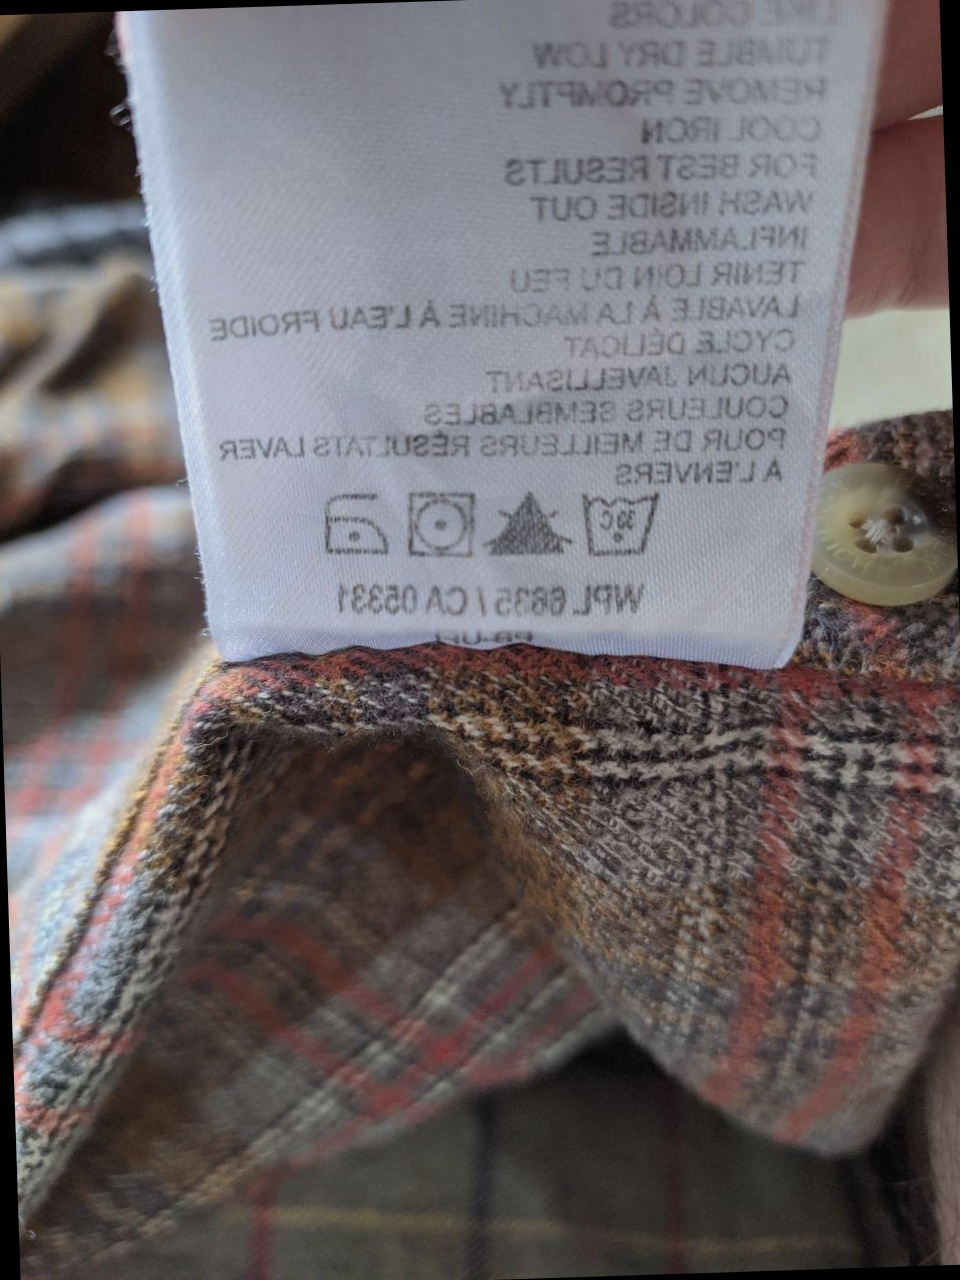30C: (570, 485, 662, 557)
DN_bleach: (489, 495, 569, 559)
iron_low: (322, 488, 393, 558)
tumble_dry_low: (403, 485, 479, 567)
